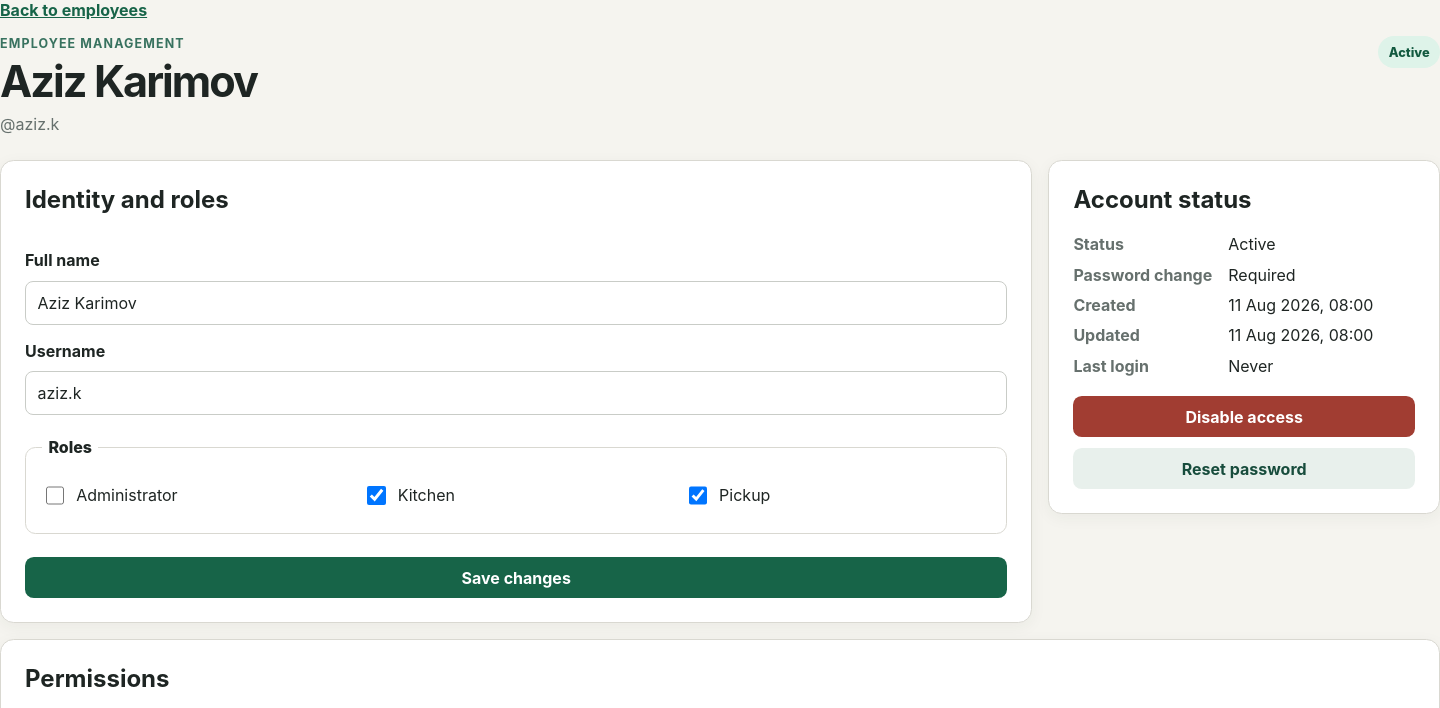
Test: employee management administration › updates roles, reports concurrency, resets passwords, and shows action history
This screenshot has width=1440, height=708.
Replace the text in the field labelled "Full name" with "Aziz Lead": coordinates (516, 303) [25,281,1007,325]
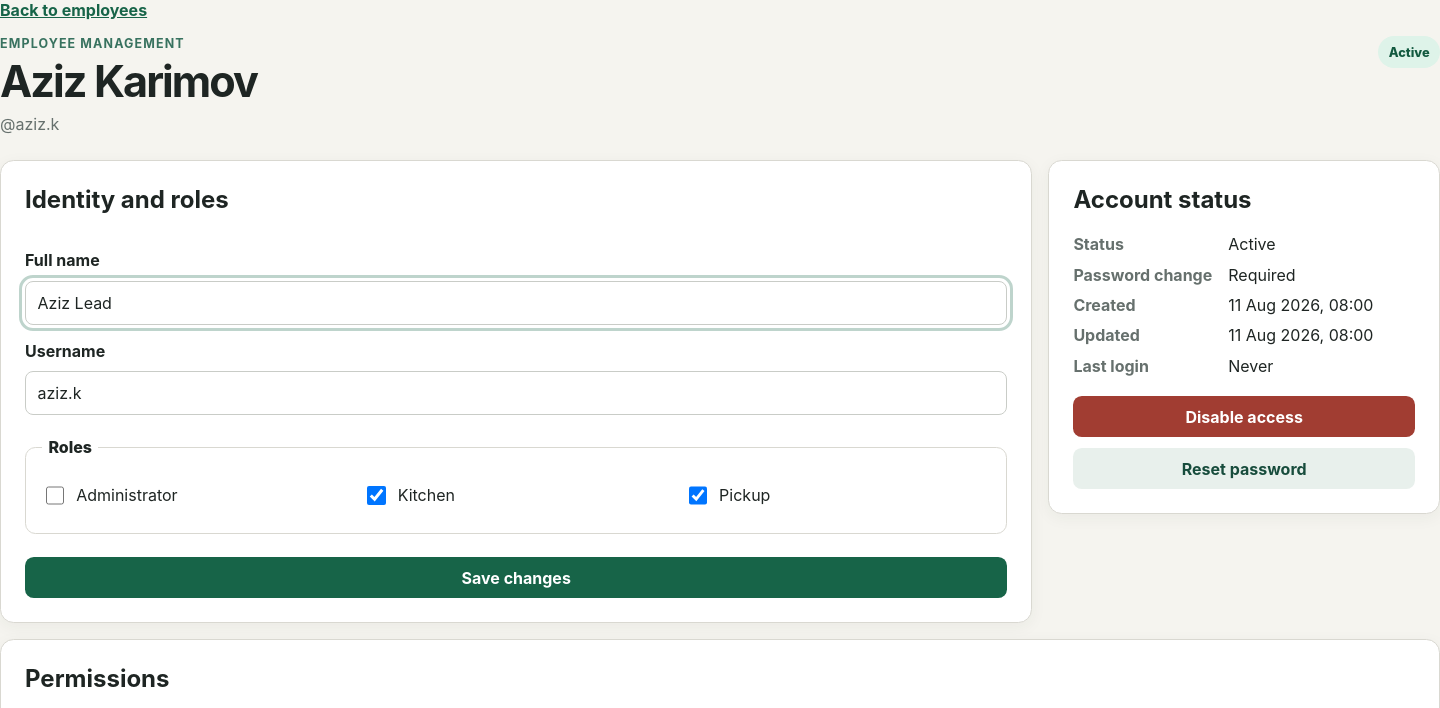
Click the checkbox labelled "Pickup": coordinates (698, 495) [689,486,707,505]
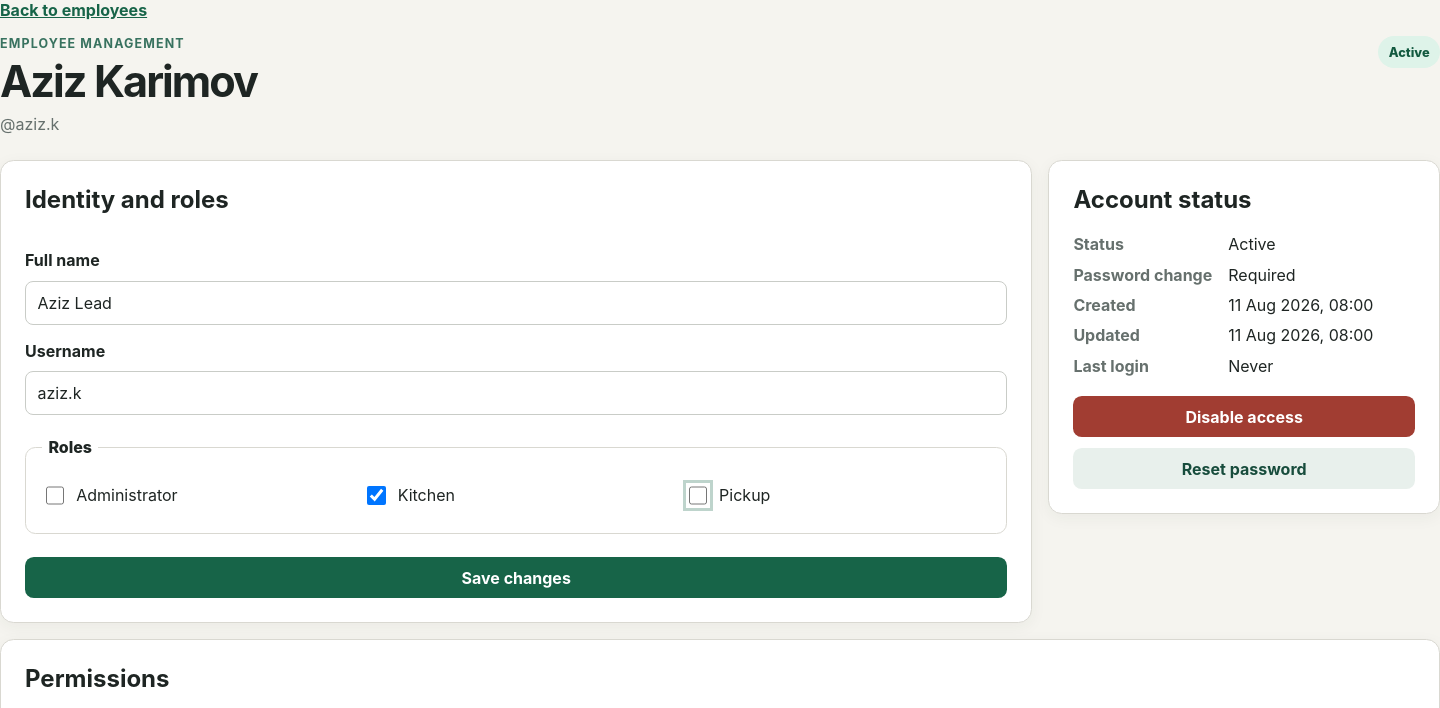
Click the button "Save changes": coordinates (516, 578) [25,557,1007,598]
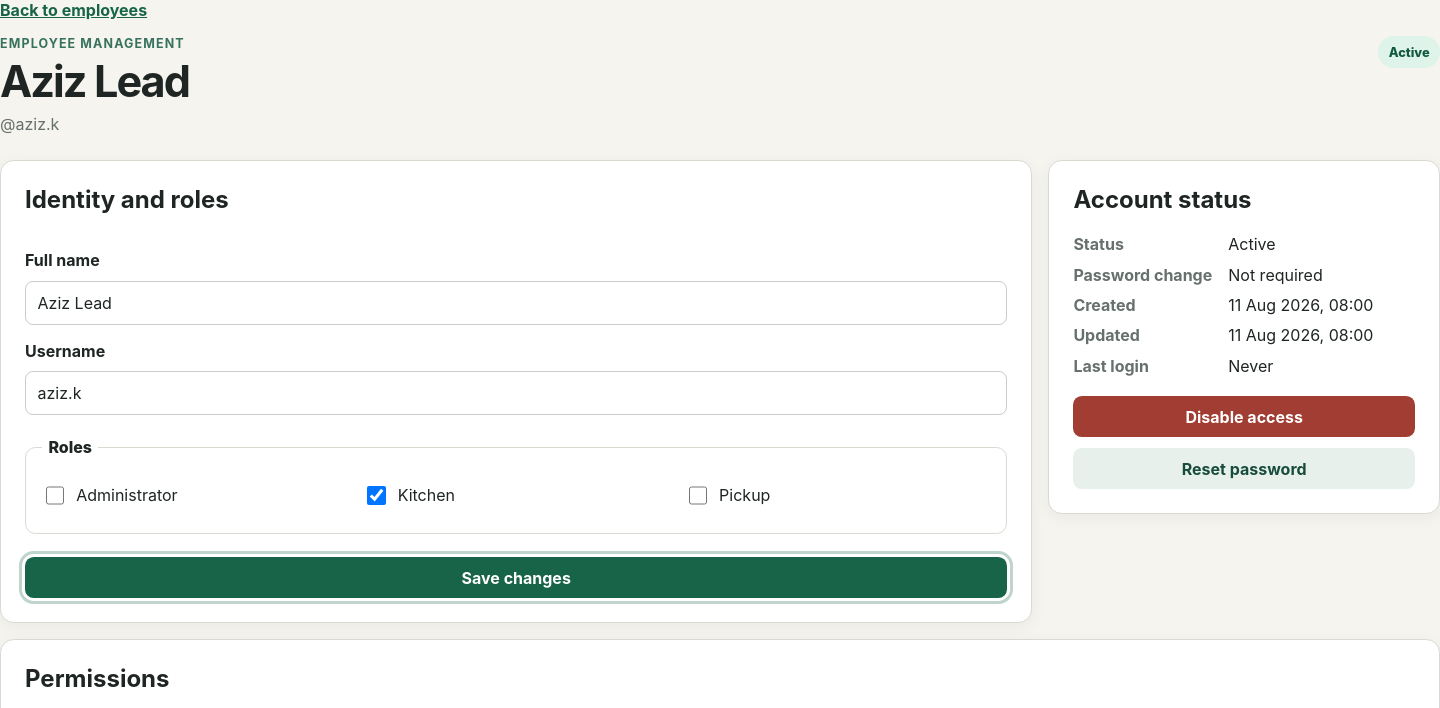
expect the text "Password change" is shown: met, box [1073,265,1212,285]
Click the button "Save changes": coordinates (516, 578) [25,557,1007,598]
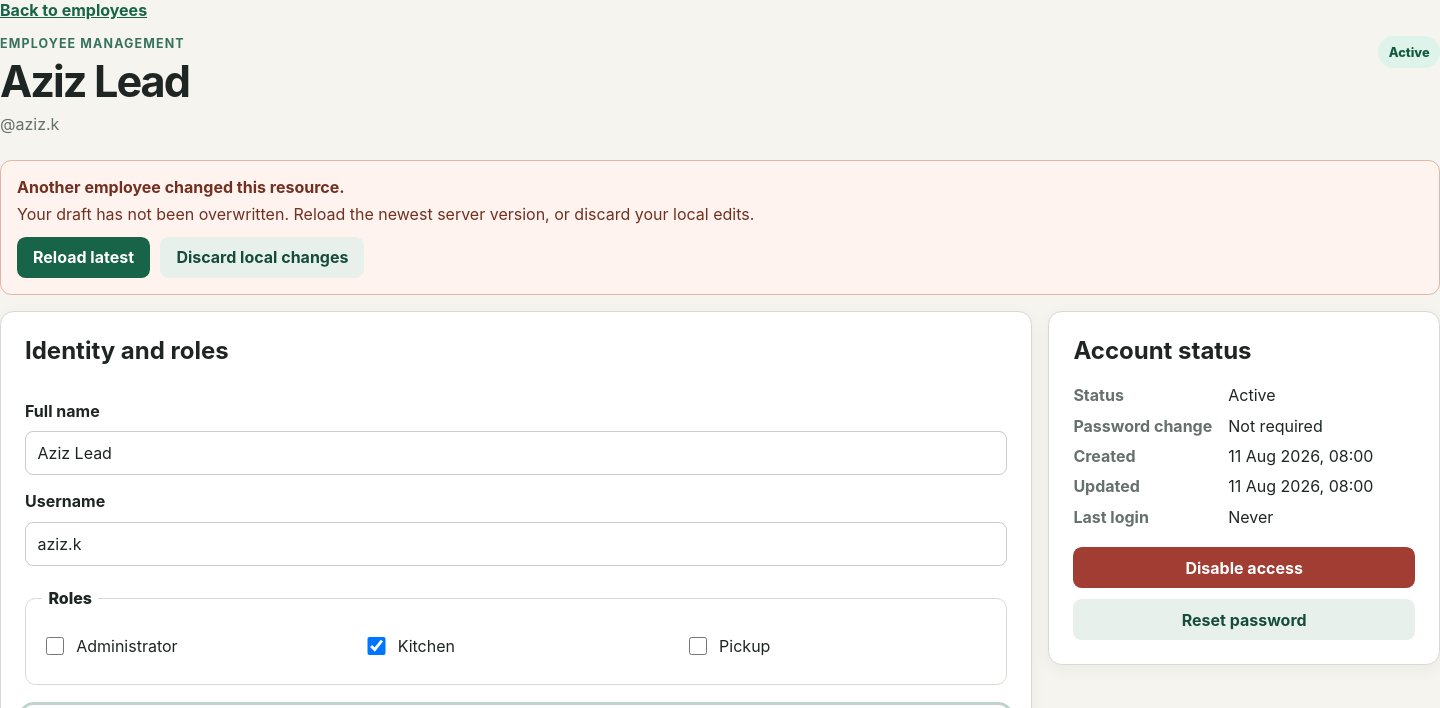
expect the text "Another employee changed this resource." is shown: met, box [17,177,345,197]
Click the button "Reset password": coordinates (1244, 619) [1073,599,1415,640]
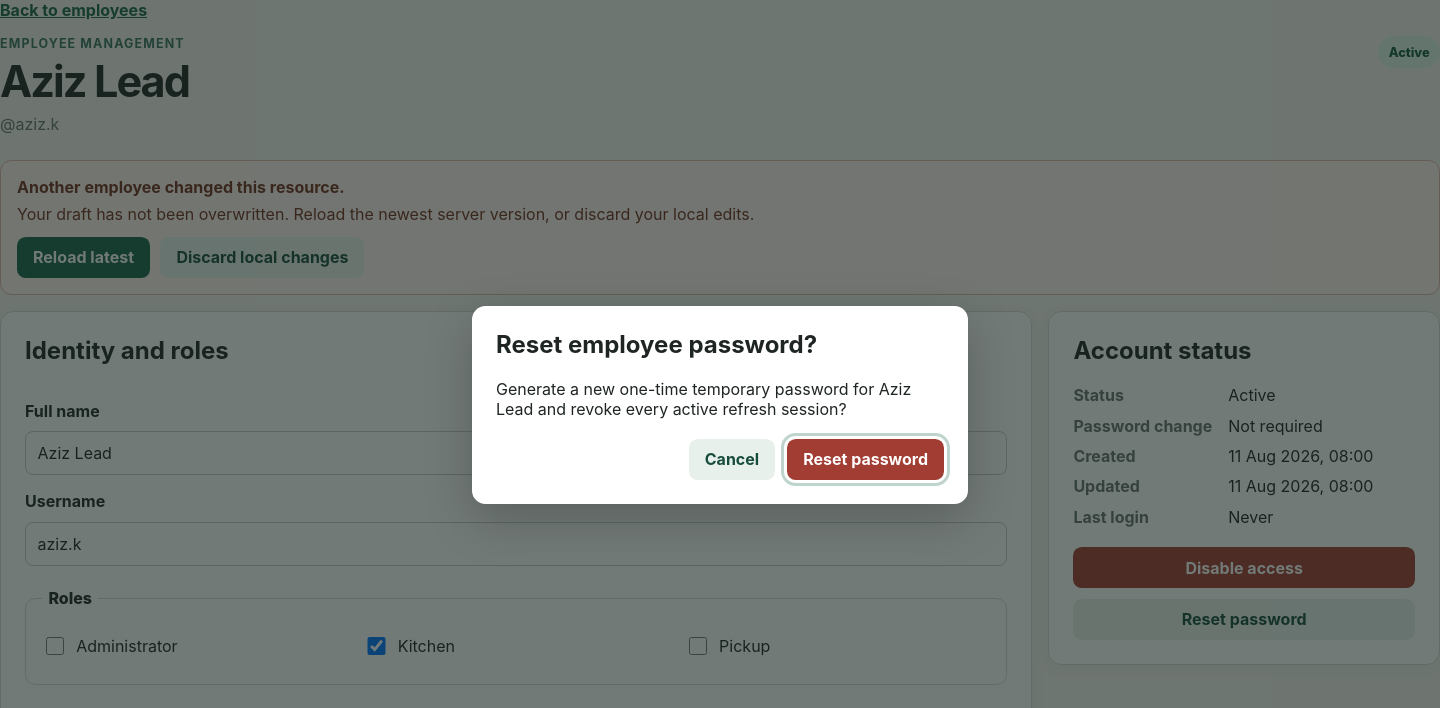
Click the button "Reset password": coordinates (866, 460) [787,439,944,480]
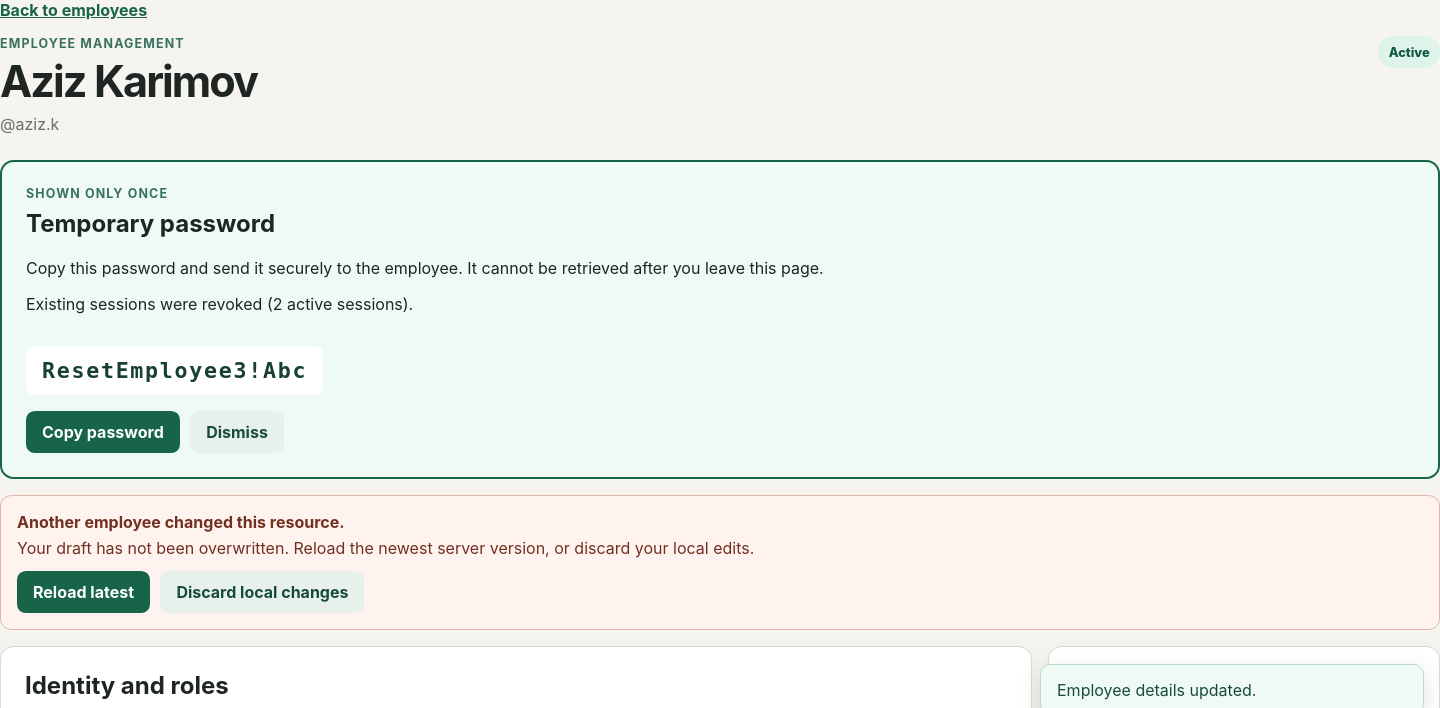
expect the text "ResetEmployee3!Abc" is shown: met, box [26,346,323,395]
expect the text "Existing sessions were revoked (2 active sessions)." is shown: met, box [26,294,413,314]
